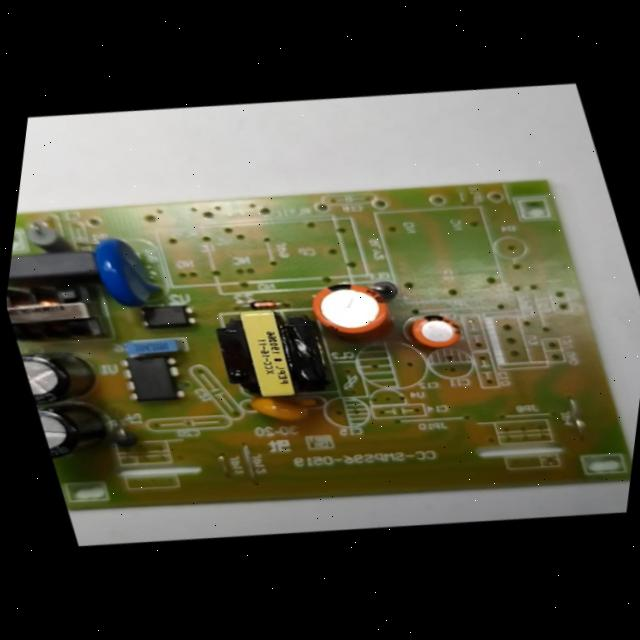Cap1: (295, 269, 407, 352)
Cap2: (401, 306, 475, 359)
Cap3: (13, 338, 117, 416)
Cap4: (31, 396, 126, 468)
MOSFET: (110, 343, 198, 414)
Mov: (74, 225, 182, 321)
Resistor: (19, 216, 82, 262)
Transformer: (190, 287, 350, 417), (6, 267, 115, 353)
